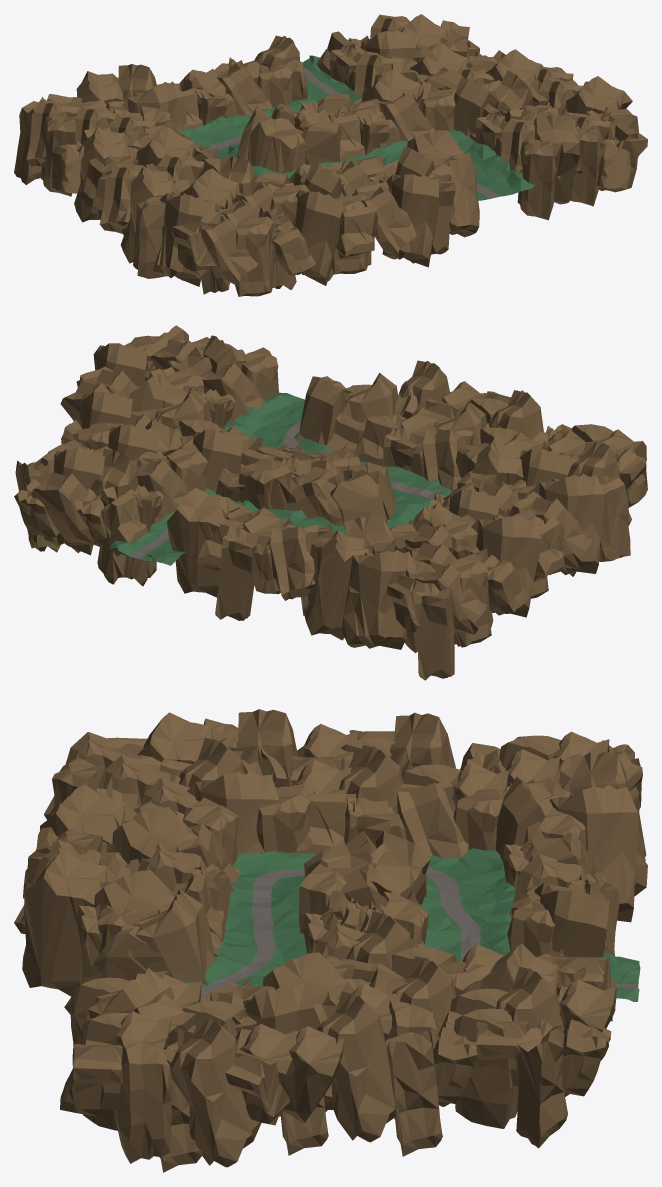
Rendered from city_park_pathway.fbx.
3 renders of one model, top to bottom at view 1: azimuth 30°, elevation 25°; view 2: azimuth 150°, elevation 25°; view 3: azimuth 270°, elevation 25°, orthographic. The views are drawn at different scales.
Parts seen in each view (by area): view 1: ground, pCube184, pCube190, pCube49 (×2), pCube75, pCube191, pCube174, pCube94, pCube108, pCube106, pCube176, pCube145 (+71 smaller); view 2: ground, pCube168, pCube55, pCube88, pCube138, pCube172, pCube144, pCube92, pCube90, pCube49 (×2), pCube122, pCube105 (+70 smaller); view 3: ground, pCube184, pCube150, pCube120, pCube151, pCube88, pCube49 (×2), pCube51 (×2), pCube124, pCube130, pCube105, pCube127 (+83 smaller).
Boxes of the visible parts, x1,y1,x2,y2 form: ground: (179, 55, 535, 201); pCube184: (382, 174, 438, 267); pCube190: (292, 190, 343, 285); pCube49 (×2): (122, 70, 532, 131); pCube75: (248, 118, 307, 172); pCube191: (235, 216, 276, 296); pCube174: (153, 193, 214, 286); pCube94: (517, 138, 556, 220); pCube108: (533, 114, 580, 204); pCube106: (445, 153, 479, 237); pCube176: (199, 215, 258, 286); pCube145: (133, 196, 165, 278); ground: (108, 392, 455, 565); pCube168: (341, 550, 414, 649); pCube55: (167, 488, 239, 597); pCube88: (304, 530, 369, 640); pCube138: (471, 516, 540, 617); pCube172: (414, 583, 454, 680); pCube144: (529, 474, 604, 574); pCube92: (215, 526, 258, 620); pCube90: (270, 524, 318, 600); pCube49 (×2): (128, 374, 395, 554); pCube122: (31, 472, 95, 543); pCube105: (296, 376, 347, 445); ground: (84, 848, 640, 1001); pCube184: (22, 849, 118, 996); pCube150: (169, 1016, 261, 1167); pCube120: (317, 991, 395, 1142); pCube151: (114, 1037, 172, 1163); pCube88: (549, 785, 638, 922); pCube49 (×2): (243, 777, 558, 1116); pCube51 (×2): (134, 777, 468, 1045); pCube124: (385, 1029, 442, 1156); pCube130: (515, 1018, 567, 1148); pCube105: (127, 889, 215, 985); pCube127: (454, 1008, 518, 1128).
Size of the model in its own units: 3083 by 602 by 2319.
